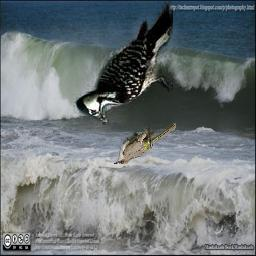Cuckoo: (114, 124, 176, 165)
Woodpecker: (73, 1, 173, 125)
